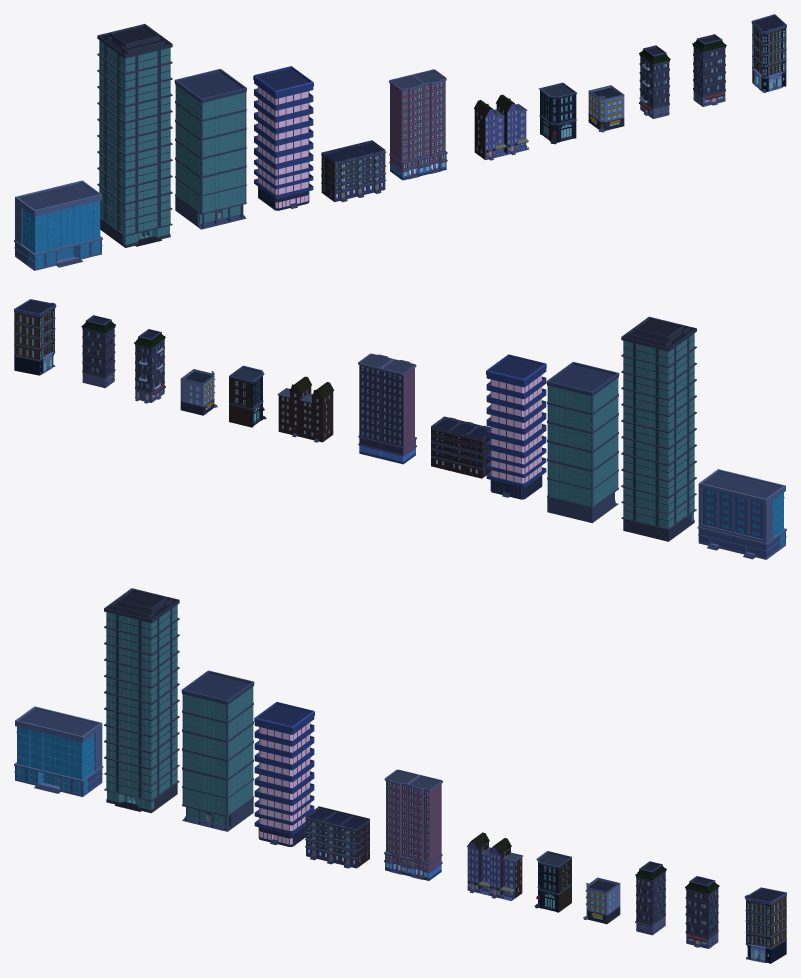
File: BuildingTest2.fbx
The picture shows the model from 3 angles, top to bottom: view 1: azimuth 30°, elevation 25°; view 2: azimuth 150°, elevation 25°; view 3: azimuth 330°, elevation 25°; orthographic projection.
Parts seen in each view (by area): view 1: skyB-Model, skyC-Model, skyD-Model, skyA-Model, resB-Model, resA-Model, resC-Model, cornerD-Model, NOcornerC-Model, cornerC-Model, cornerA-Model, cornerB-Model; view 2: skyB-Model, skyC-Model, skyD-Model, skyA-Model, resB-Model, resA-Model, resC-Model, cornerD-Model, NOcornerC-Model, cornerC-Model, cornerA-Model, cornerB-Model; view 3: skyB-Model, skyC-Model, skyD-Model, skyA-Model, resB-Model, resA-Model, resC-Model, cornerD-Model, NOcornerC-Model, cornerC-Model, cornerA-Model, cornerB-Model.
Boxes of the visible parts, x1,y1,x2,y2 form: skyB-Model: (97, 24, 172, 247); skyC-Model: (174, 69, 246, 229); skyD-Model: (253, 66, 313, 210); skyA-Model: (14, 180, 102, 270); resB-Model: (389, 69, 447, 180); resA-Model: (321, 140, 386, 202); resC-Model: (474, 94, 529, 160); cornerD-Model: (751, 14, 786, 92); NOcornerC-Model: (692, 34, 726, 106); cornerC-Model: (639, 45, 670, 118); cornerA-Model: (538, 82, 576, 144); cornerB-Model: (588, 85, 624, 132); skyB-Model: (621, 316, 696, 541); skyC-Model: (546, 362, 619, 523); skyD-Model: (486, 354, 546, 499); skyA-Model: (697, 469, 786, 559); resB-Model: (358, 353, 416, 464); resA-Model: (431, 416, 490, 478); resC-Model: (277, 376, 334, 442); cornerD-Model: (14, 299, 56, 375); NOcornerC-Model: (81, 315, 115, 388); cornerC-Model: (134, 329, 165, 403); cornerA-Model: (229, 365, 266, 427); cornerB-Model: (180, 369, 217, 415); skyB-Model: (104, 588, 179, 813); skyC-Model: (181, 670, 254, 831); skyD-Model: (254, 702, 314, 846); skyA-Model: (14, 706, 103, 796); resB-Model: (384, 769, 442, 880); resA-Model: (305, 806, 369, 868); resC-Model: (467, 832, 523, 900); cornerD-Model: (744, 887, 786, 963); NOcornerC-Model: (685, 876, 719, 948); cornerC-Model: (635, 861, 666, 935); cornerA-Model: (534, 851, 571, 912); cornerB-Model: (583, 877, 620, 924).
Bounding box in the file's own units: 469 × 118 × 36.64.
